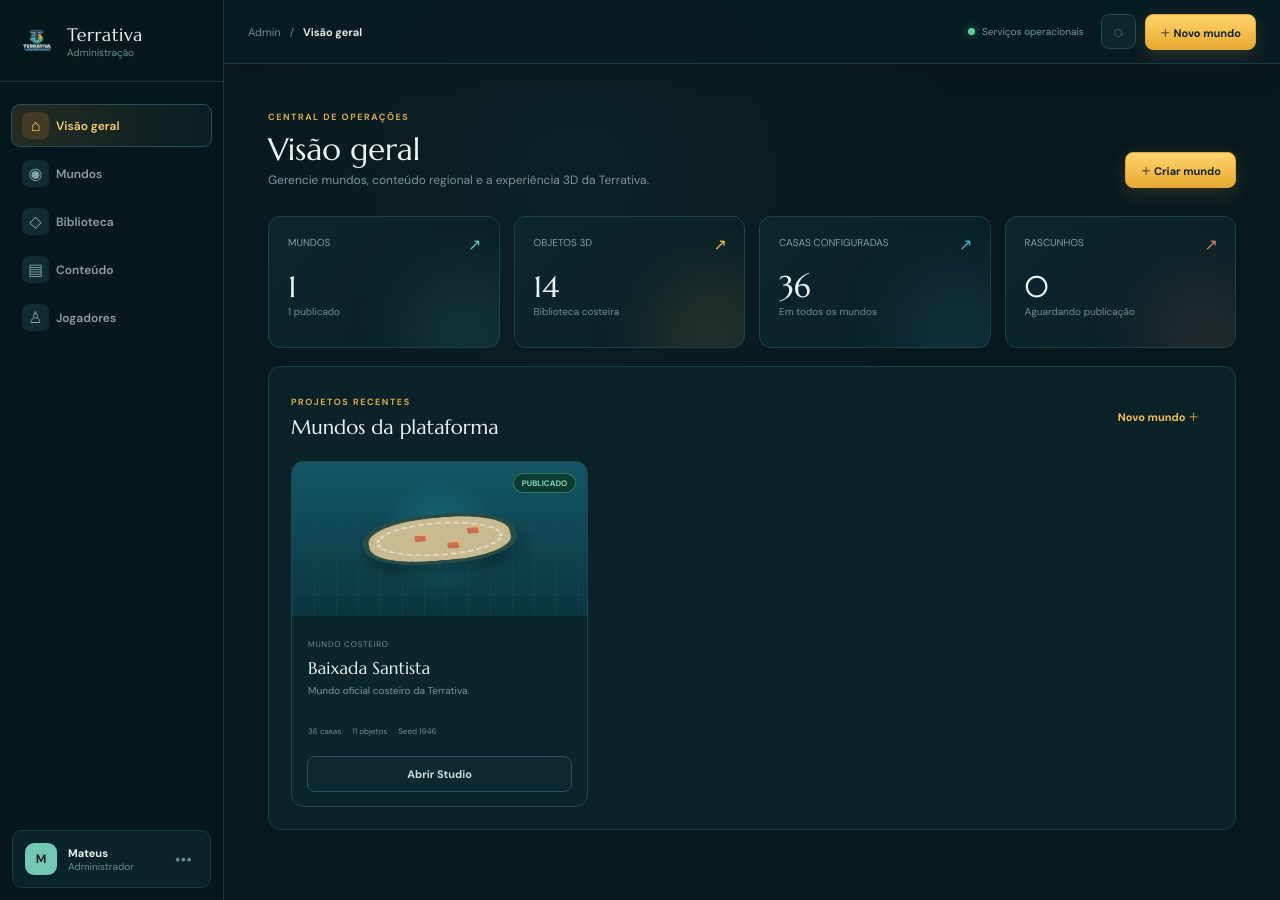
Scenario: Terrativa Admin › abre o fluxo de criação com os três modelos de terreno
The image size is (1280, 900).
Click the button "＋ Novo mundo". click: (1200, 32)
box: [1145,14,1256,50]
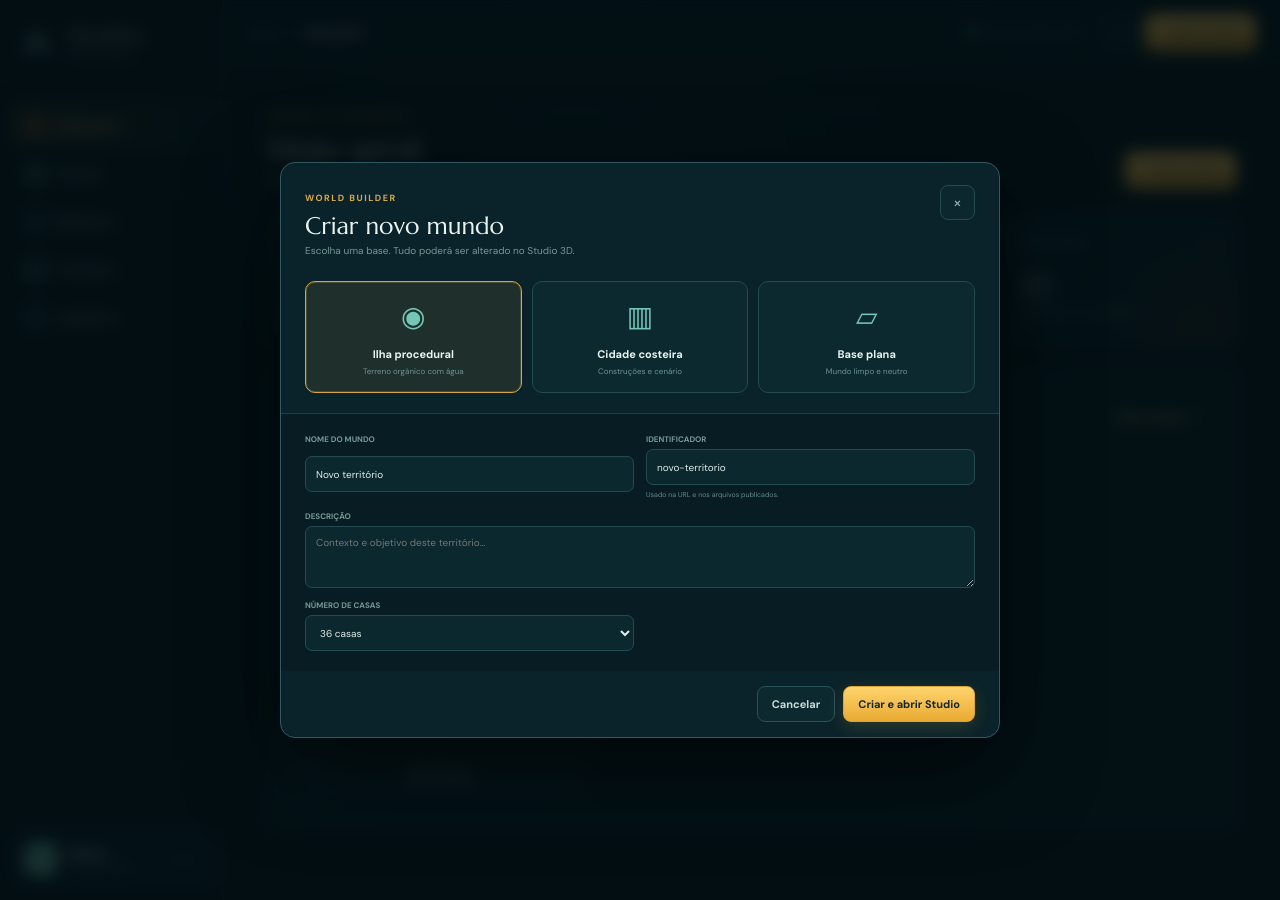
expect the text "Ilha procedural" is shown: met, box [373,347,454,361]
expect the text "Cidade costeira" is shown: met, box [597,347,683,361]
expect the text "Base plana" is shown: met, box [838,347,896,361]
